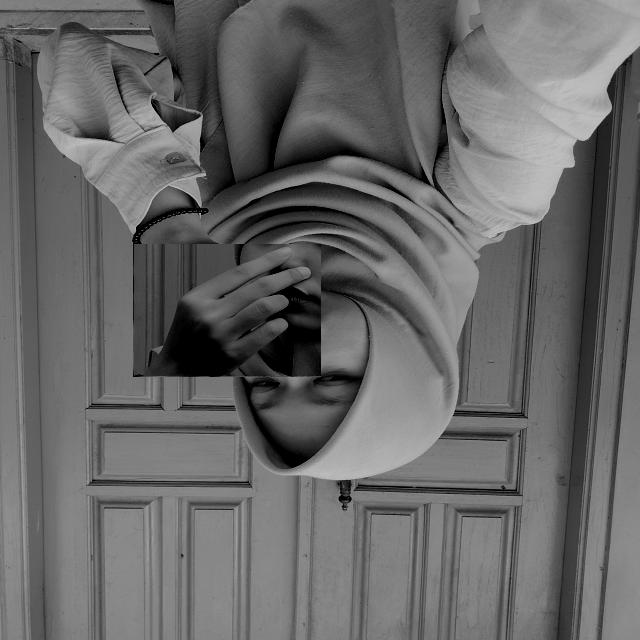bau: (133, 244, 321, 377)
